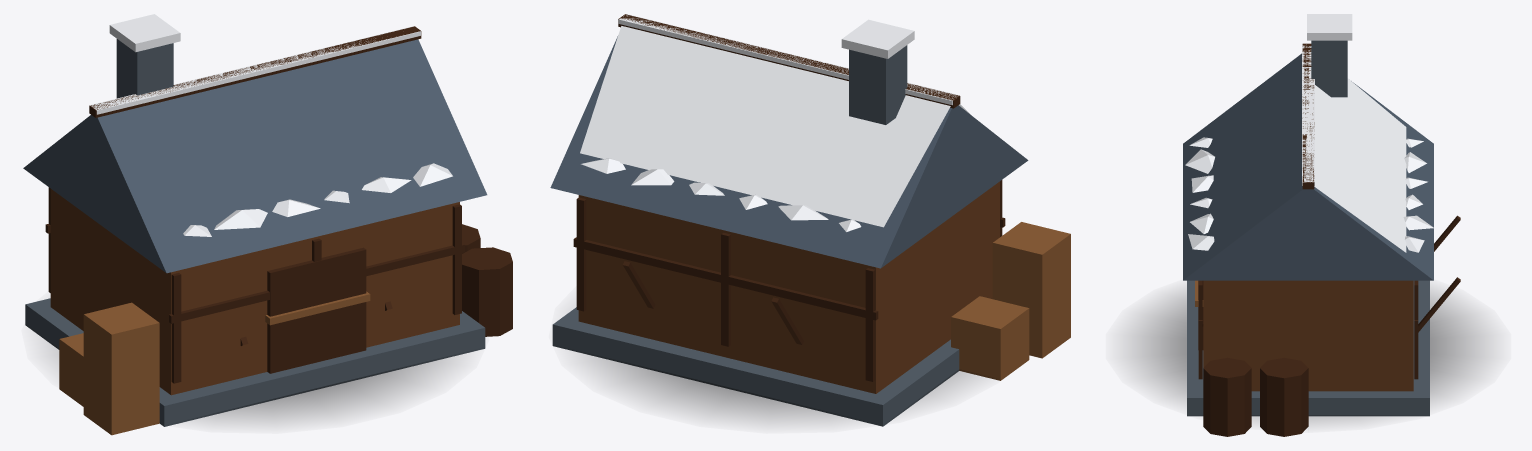
The model's file is storehouse_t0.glb.
3 views of the same model, side by side, from view 1: azimuth 30°, elevation 25°; view 2: azimuth 150°, elevation 25°; view 3: azimuth 270°, elevation 25° (orthographic). The views are drawn at different scales.
Parts seen in each view (by area): view 1: storehouse_t0; view 2: storehouse_t0; view 3: storehouse_t0.
Boxes of the visible parts, <box> form: storehouse_t0: <box>23,14,512,435</box>; storehouse_t0: <box>550,14,1070,426</box>; storehouse_t0: <box>1131,14,1485,436</box>.
Bounding box in the file's own units: 5.22 × 3.85 × 5.16.
